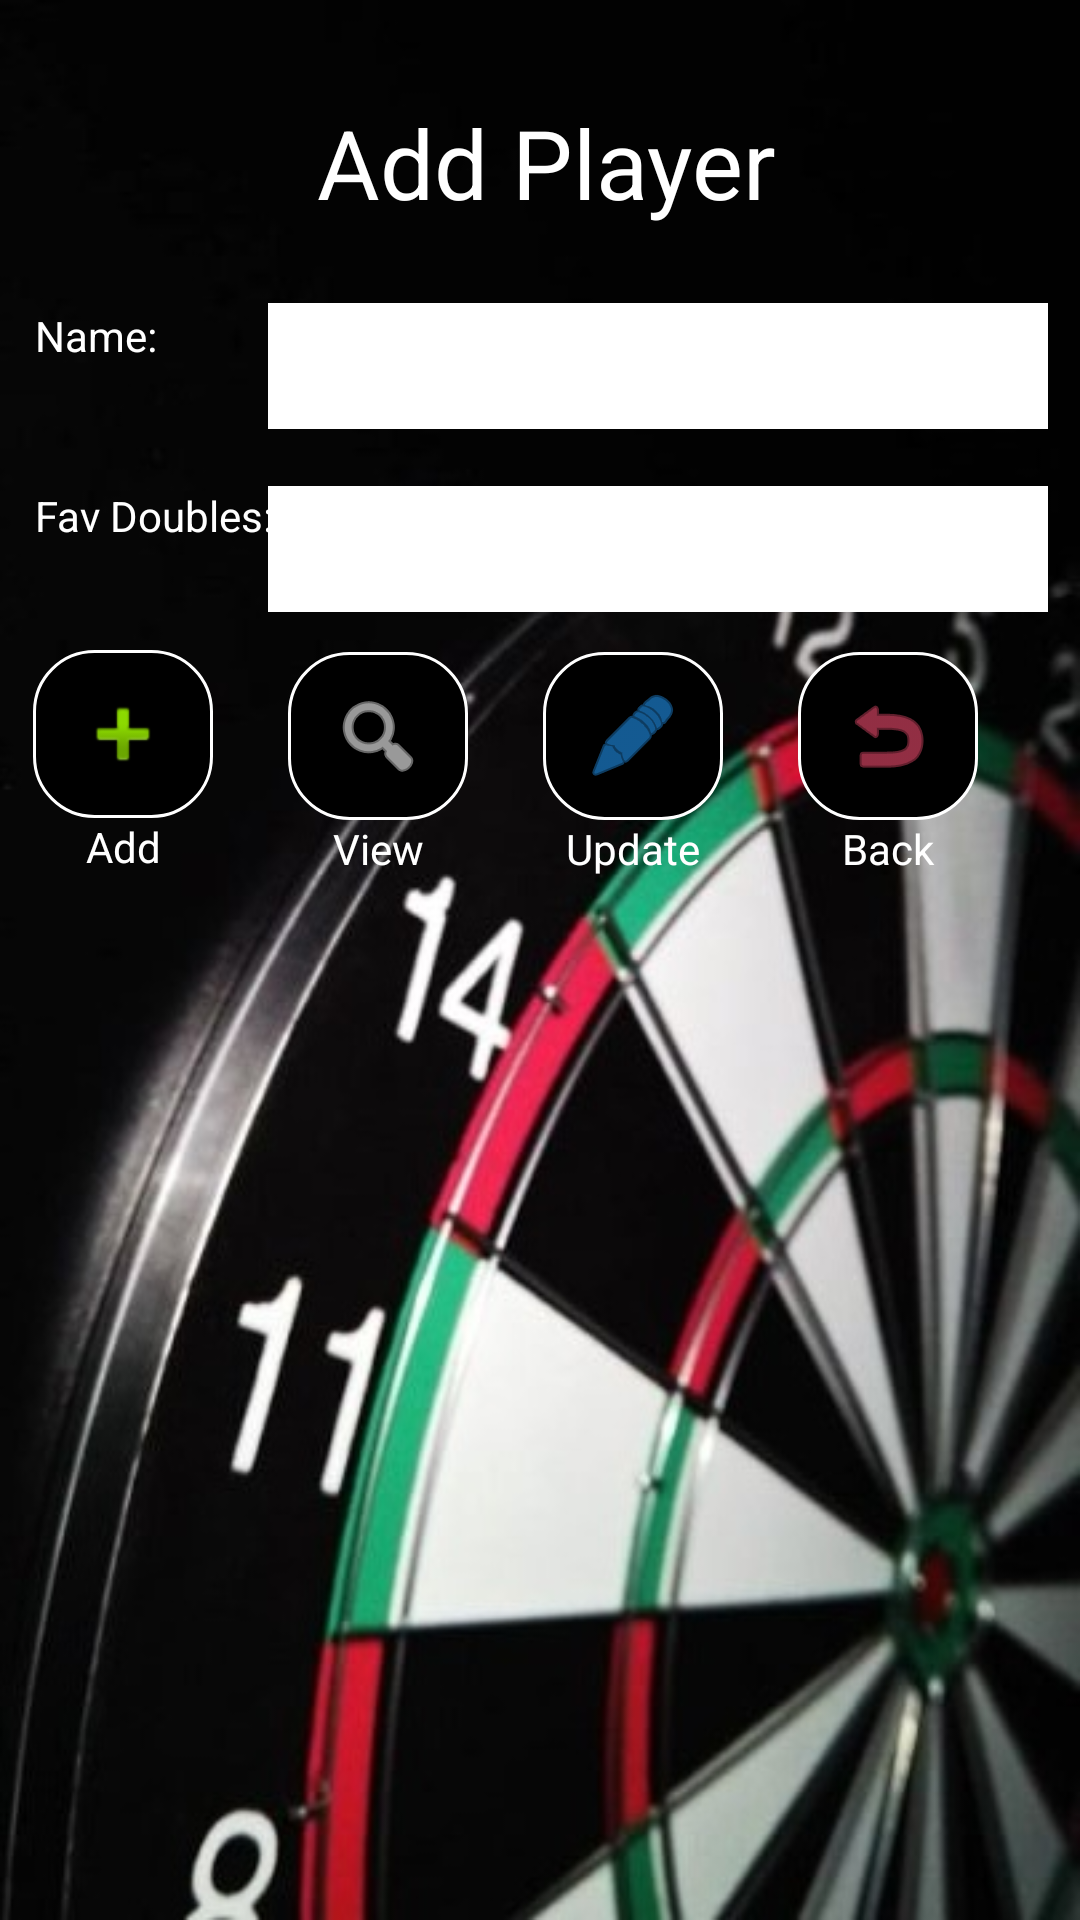

Where to tap for icons on this 1080x1920 app screen, as (x,y):
edit: (633,736)
revert: (888,736)
search: (378,736)
